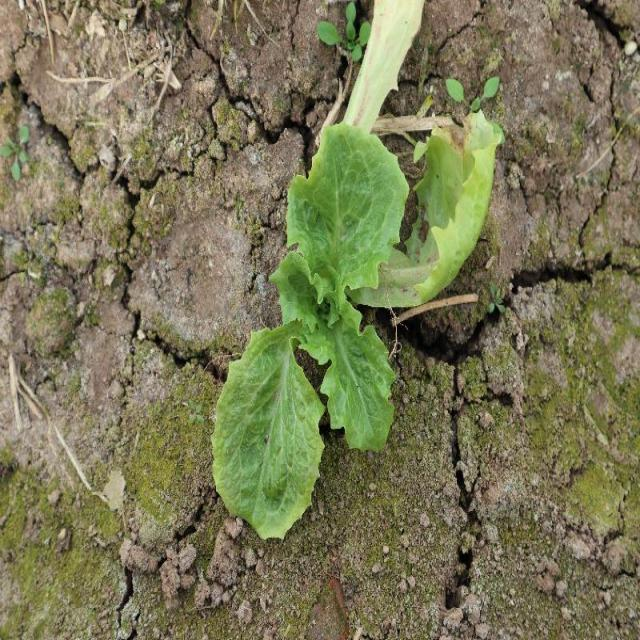crop: (210, 120, 502, 541)
